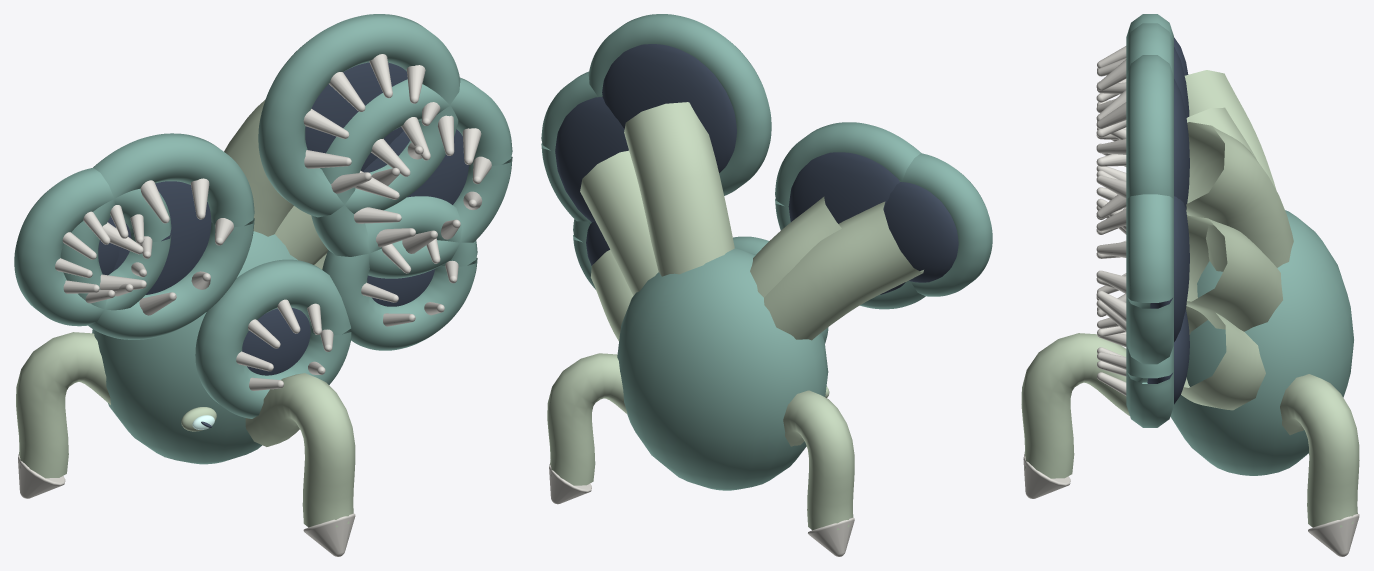
Rendered from bio_manymouth_04_near.glb.
3 views of the same model, side by side, from view 1: azimuth 30°, elevation 25°; view 2: azimuth 150°, elevation 25°; view 3: azimuth 270°, elevation 25° (orthographic). The views are drawn at different scales.
Parts seen in each view (by area): view 1: Raised oral lip.003, Raised oral lip.001, Central branching knot, Raised oral lip.005, Raised oral lip.002, Raised oral lip.004, Raised oral lip, Crooked support.002, Crooked support.001, Inward tooth.040, Inward tooth.021, Recessed mouth cavity.001 (+13 smaller); view 2: Central branching knot, Bent oral neck.003, Bent oral neck.004, Raised oral lip.003, Recessed mouth cavity.003, Crooked support.001, Crooked support, Bent oral neck.005, Raised oral lip.001, Raised oral lip.004, Recessed mouth cavity.001, Recessed mouth cavity.004 (+8 smaller); view 3: Central branching knot, Bent oral neck.003, Crooked support.002, Crooked support, Raised oral lip.005, Bent oral neck.005, Raised oral lip.003, Bent oral neck, Raised oral lip, Bent oral neck.004, Inward tooth.040, Inward tooth.021 (+13 smaller).
Boxes of the visible parts, box(x1,y1,x2,y2) form: Raised oral lip.003: box(258, 14, 460, 217); Raised oral lip.001: box(61, 133, 254, 339); Central branching knot: box(92, 231, 297, 464); Raised oral lip.005: box(311, 77, 512, 278); Raised oral lip.002: box(195, 259, 351, 418); Raised oral lip.004: box(14, 168, 171, 326); Raised oral lip: box(322, 196, 477, 350); Crooked support.002: box(245, 373, 355, 527); Crooked support.001: box(16, 332, 110, 478); Inward tooth.040: box(354, 115, 491, 253); Inward tooth.021: box(303, 54, 440, 193); Recessed mouth cavity.001: box(113, 181, 211, 294); Central branching knot: box(617, 248, 828, 490); Bent oral neck.003: box(624, 102, 734, 276); Bent oral neck.004: box(764, 201, 923, 340); Raised oral lip.003: box(588, 14, 771, 195); Recessed mouth cavity.003: box(602, 44, 736, 173); Crooked support.001: box(783, 390, 854, 530); Crooked support: box(547, 353, 627, 485); Bent oral neck.005: box(580, 150, 658, 295); Raised oral lip.001: box(775, 122, 925, 309); Raised oral lip.004: box(899, 153, 992, 296); Recessed mouth cavity.001: box(788, 152, 905, 294); Recessed mouth cavity.004: box(884, 182, 958, 282); Central branching knot: box(1170, 210, 1353, 475); Bent oral neck.003: box(1186, 122, 1293, 271); Crooked support.002: box(1021, 333, 1129, 478); Crooked support: box(1280, 374, 1359, 527); Raised oral lip.005: box(1126, 194, 1173, 364); Bent oral neck.005: box(1186, 215, 1282, 331); Raised oral lip.003: box(1126, 55, 1173, 199); Bent oral neck: box(1181, 306, 1265, 410); Raised oral lip: box(1126, 344, 1173, 427); Bent oral neck.004: box(1184, 70, 1276, 189); Inward tooth.040: box(1096, 194, 1126, 331); Inward tooth.021: box(1096, 90, 1126, 234).
Bounding box in the file's own units: 2.13 × 1.97 × 1.28.
